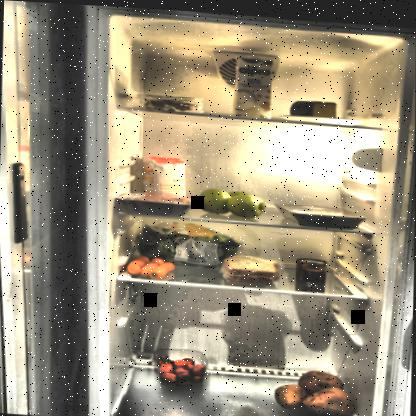apple: (195, 182, 268, 218)
carrot: (121, 251, 179, 280)
cheese: (288, 94, 340, 116)
corn: (294, 252, 327, 282)
ground_beef: (115, 186, 198, 215)
milk: (231, 47, 275, 117)
shrimp: (141, 94, 203, 112)
spinach: (134, 217, 243, 268)
strawberries: (156, 351, 210, 387)
sweet_potato: (273, 363, 356, 415)
